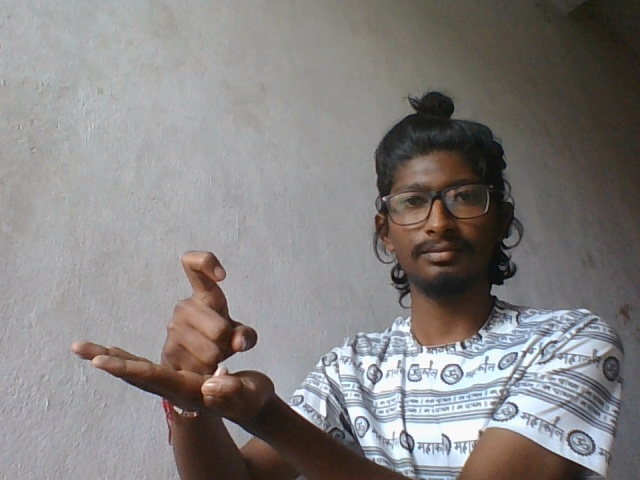No: (64, 243, 294, 436)
